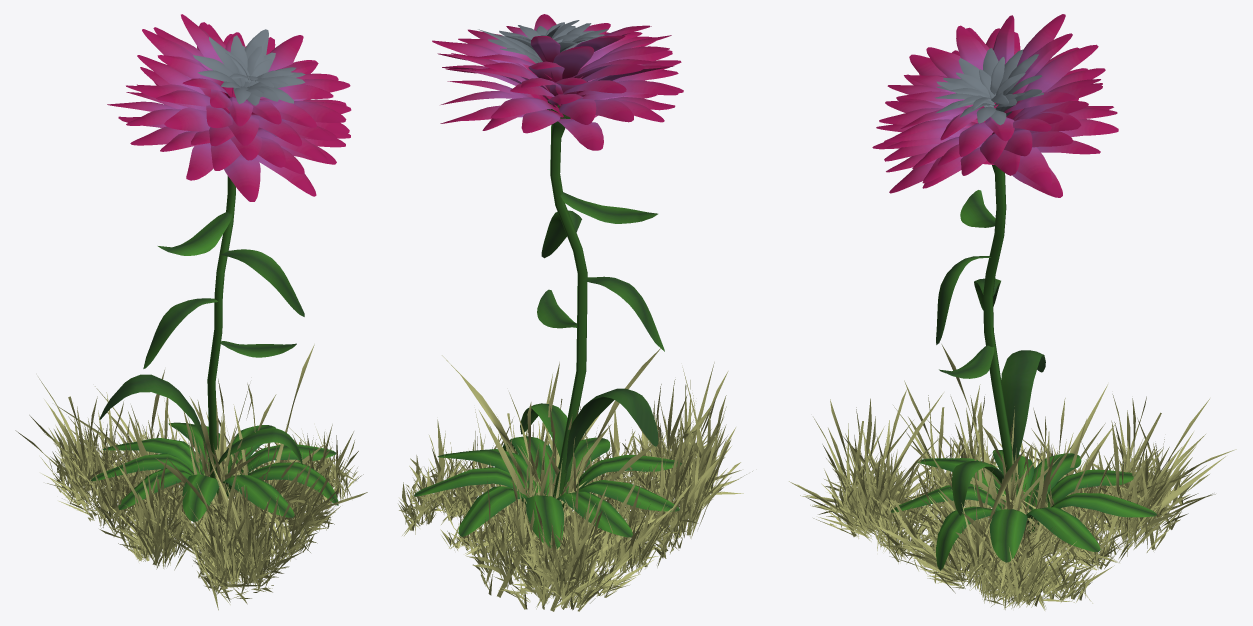
The picture shows the model from 3 angles, left to right: view 1: azimuth 30°, elevation 25°; view 2: azimuth 150°, elevation 25°; view 3: azimuth 270°, elevation 25°; orthographic projection. The views are drawn at different scales.
Parts seen in each view (by area): view 1: grass_m, flower_m, leaves_m, leaves_2_m; view 2: grass_m, flower_m, leaves_m, leaves_2_m; view 3: grass_m, flower_m, leaves_2_m, leaves_m.
Part boxes in pixels (<box>): grass_m: <box>15,344,367,610</box>; flower_m: <box>107,14,351,201</box>; leaves_m: <box>99,176,304,478</box>; leaves_2_m: <box>90,422,338,521</box>; grass_m: <box>398,348,752,611</box>; flower_m: <box>432,14,683,150</box>; leaves_m: <box>520,99,664,498</box>; leaves_2_m: <box>414,436,681,548</box>; grass_m: <box>789,344,1236,610</box>; flower_m: <box>872,14,1118,197</box>; leaves_2_m: <box>891,450,1156,570</box>; leaves_m: <box>936,165,1045,515</box>.
Bounding box in the file's own units: 12.01 × 21.96 × 17.02.
Materials: 4 (2 with a texture image).
